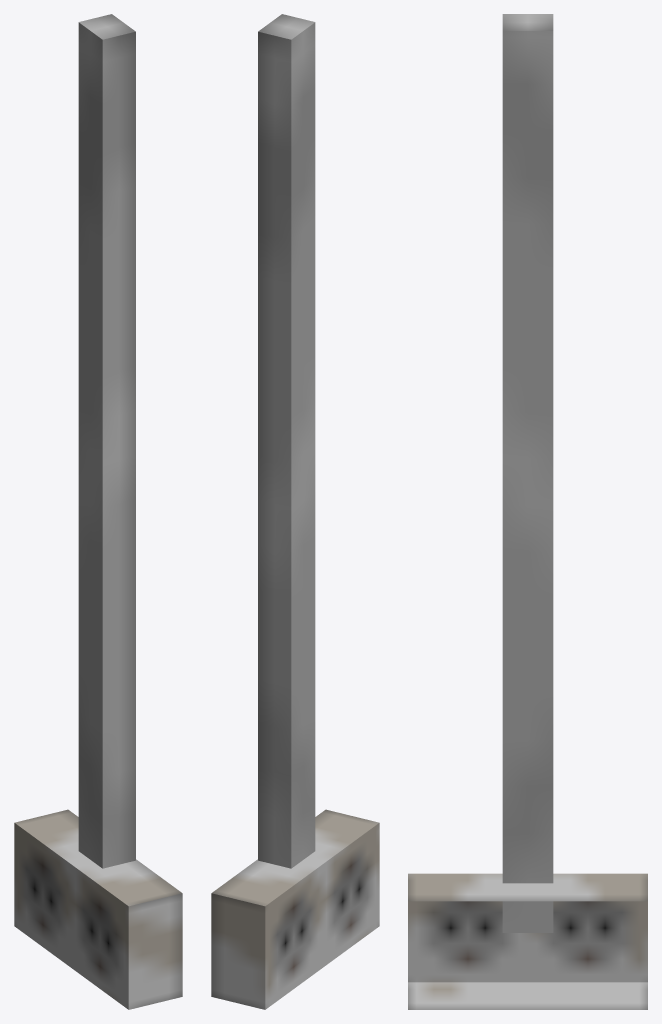
The model's file is obj_socket_v2_115.fbx.
3 views of the same model, side by side, from view 1: azimuth 30°, elevation 25°; view 2: azimuth 150°, elevation 25°; view 3: azimuth 270°, elevation 25° (orthographic). The views are drawn at different scales.
Parts seen in each view (by area): view 1: obj_socket_v2_115; view 2: obj_socket_v2_115; view 3: obj_socket_v2_115.
Part boxes in pixels (left/top/right/bottom): obj_socket_v2_115: left=14, top=14, right=182, bottom=1009; obj_socket_v2_115: left=211, top=14, right=379, bottom=1009; obj_socket_v2_115: left=408, top=14, right=647, bottom=1009.
Size of the model in its own units: 5.44 by 90 by 20.
